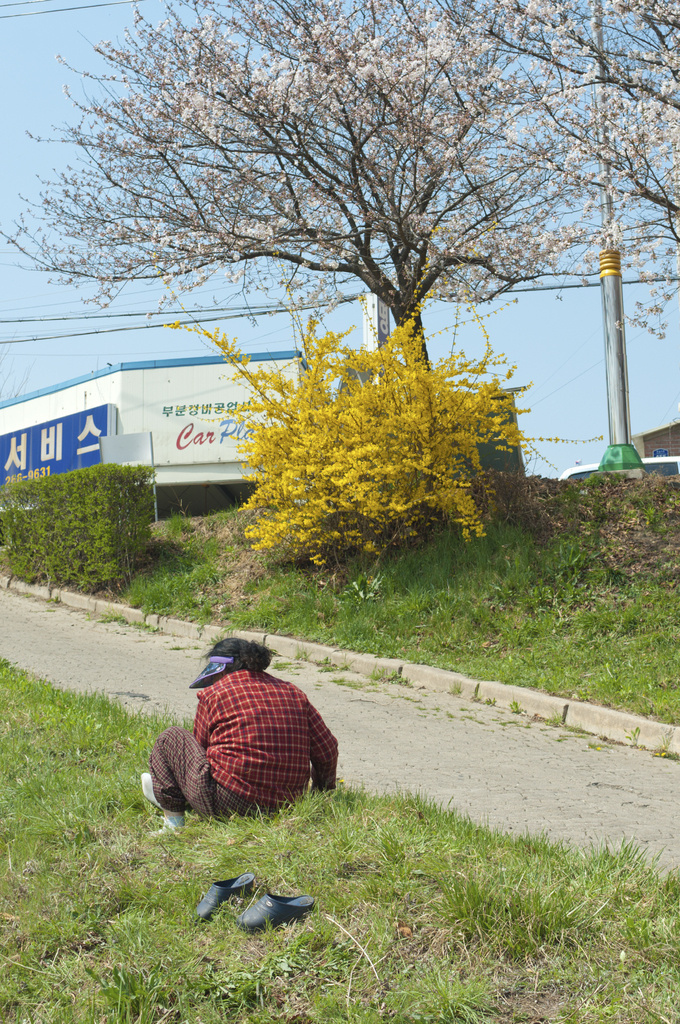Tree: (0, 0, 679, 376), (144, 304, 571, 574)
